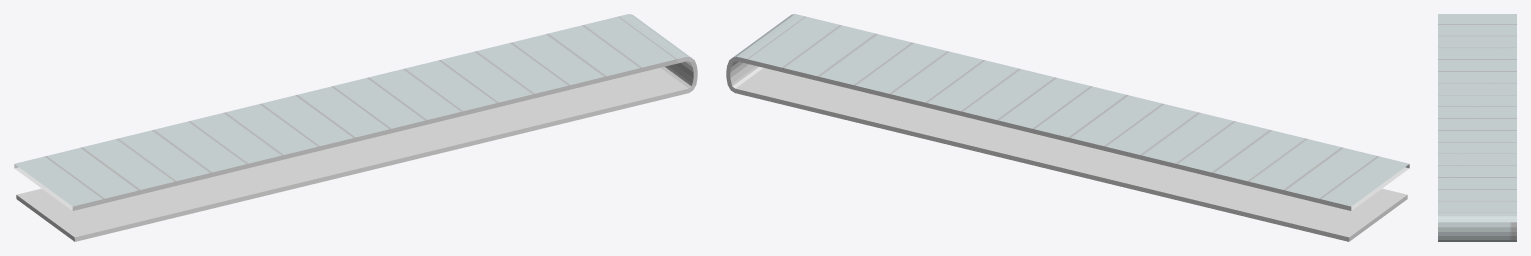
Rendered from band_R.fbx.
3 views of the same model, side by side, from view 1: azimuth 30°, elevation 25°; view 2: azimuth 150°, elevation 25°; view 3: azimuth 270°, elevation 25° (orthographic). The views are drawn at different scales.
Visible parts, largest first — view 1: band; view 2: band; view 3: band.
Boxes of the visible parts, x1=… form: band: x1=14, y1=14, x2=697, y2=241; band: x1=726, y1=14, x2=1409, y2=241; band: x1=1438, y1=14, x2=1516, y2=241.
Bounding box in the file's own units: 988 × 55.72 × 160.
Materials: 3 (1 with a texture image).
